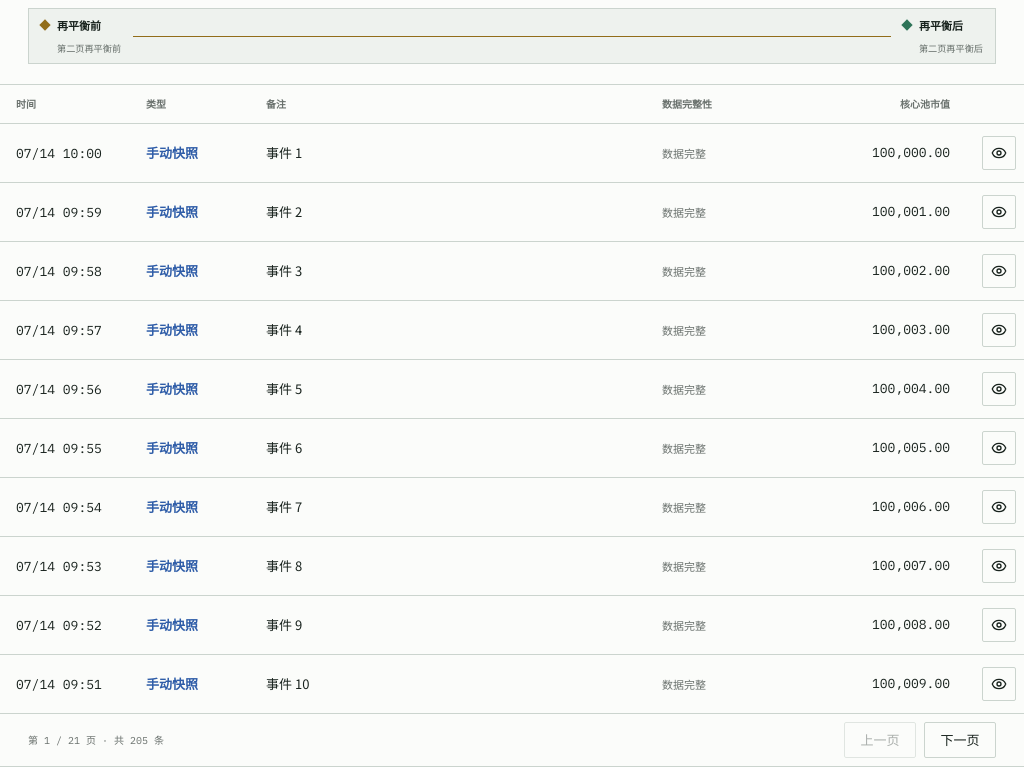
SnapshotsPage › fetches the complete filtered series sequentially and pages only the event table
The width and height of the screenshot is (1024, 767).
(page scrolled)
Expected: the text "第 1 / 21 页 · 共 205 条" is shown, left=28, top=732, right=164, bottom=747
Expected: the element named "再平衡事件配对" shows "第二页再平衡前", left=57, top=41, right=121, bottom=55
Step 1. Click the button "下一页" → (960, 740), box left=924, top=722, right=996, bottom=758
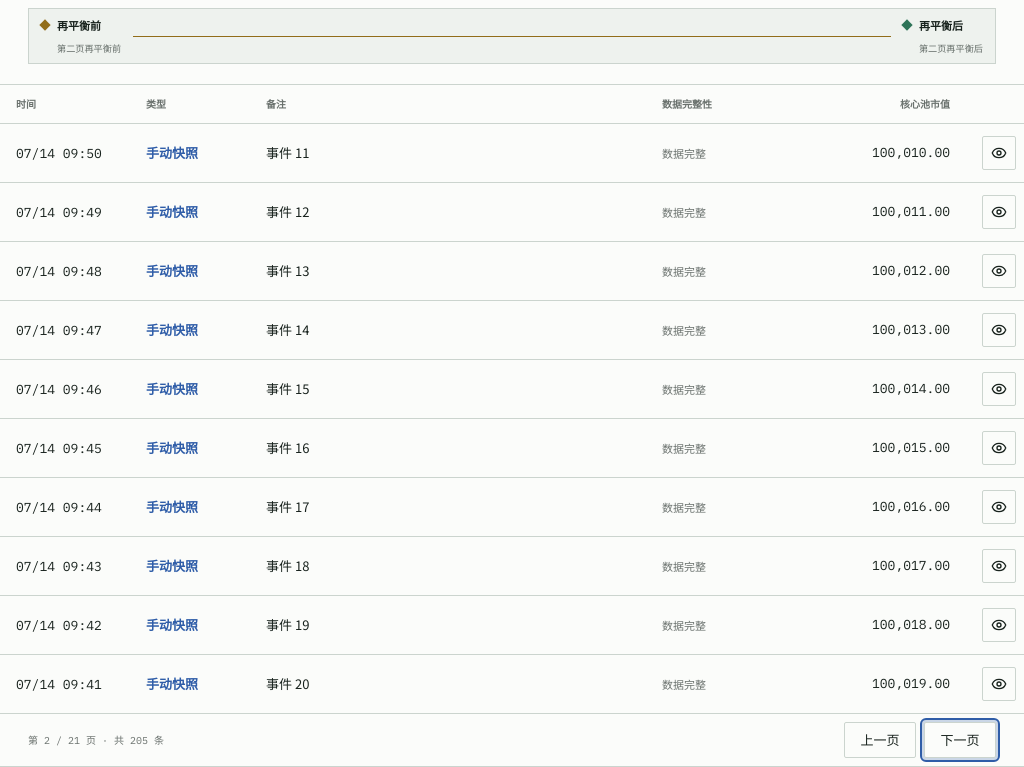
Expected: the text "第 2 / 21 页 · 共 205 条" is shown, left=28, top=732, right=164, bottom=747
Expected: the text "事件 11" is shown, left=250, top=123, right=646, bottom=182
